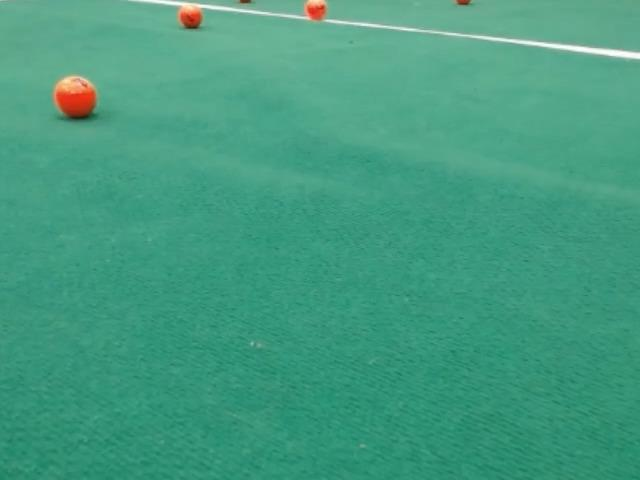Ball: (53, 75, 97, 118), (178, 4, 202, 28), (304, 0, 328, 22)
